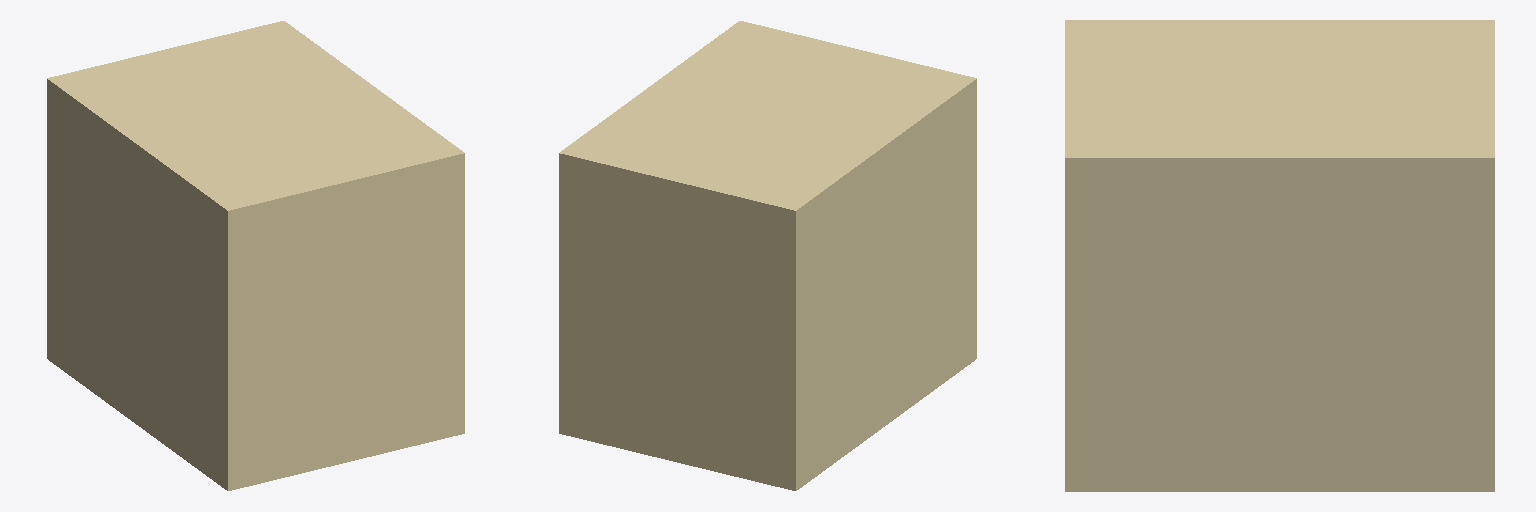
robot.urdf — box.urdf:
<?xml version="1.0" ?>
<robot name="box.urdf">
  <link name="baseLink">
    <contact>
      <lateral_friction value="1.0"/>
      <rolling_friction value="0.0001"/>
      <inertia_scaling value="3.0"/>
    </contact>
    <inertial>
      <origin rpy="0 0 0" xyz="0 0 0"/>
       <mass value="0.1"/>
       <inertia ixx="1" ixy="0" ixz="0" iyy="1" iyz="0" izz="1"/>
    </inertial>
    <visual>
      <origin rpy="0 0 0" xyz="0 0 0"/>
      <geometry>
        <!-- <box size="0.223 0.295 0.252"/> -->
        <mesh filename="box/box.obj" scale="0.223 0.295 0.252"/>
      </geometry>
      <material name="white">
        <color rgba="0.9 0.85 0.7 1"/>
      </material>
    </visual>
    <collision>
      <origin rpy="0 0 0" xyz="0 0 0"/>
      <geometry>
        <mesh filename="box/box.obj" scale="0.223 0.295 0.252"/>
	 	    <!-- <box size="0.223 0.295 0.252"/> -->
      </geometry>
    </collision>
  </link>
</robot>

--- What the picture shows (computed from the rendered views, not written in the file) ---
The picture shows the robot from 3 angles, left to right: view 1: azimuth 30°, elevation 25°; view 2: azimuth 150°, elevation 25°; view 3: azimuth 270°, elevation 25°; orthographic projection.
Model box.urdf with 1 links and 0 joints (none), rooted at baseLink, posed all joints at 0.
Visible links, largest first — view 1: baseLink; view 2: baseLink; view 3: baseLink.
Link boxes in pixels (box(x1,y1,x2,y2)): baseLink: box(47, 21, 464, 490); baseLink: box(559, 21, 976, 490); baseLink: box(1065, 20, 1494, 491).
Bounding box of the posed robot: 0.223 × 0.295 × 0.252 m (x, y, z).
Meshes: 1 distinct files referenced, 1 mesh visuals loaded (1 OBJ).
